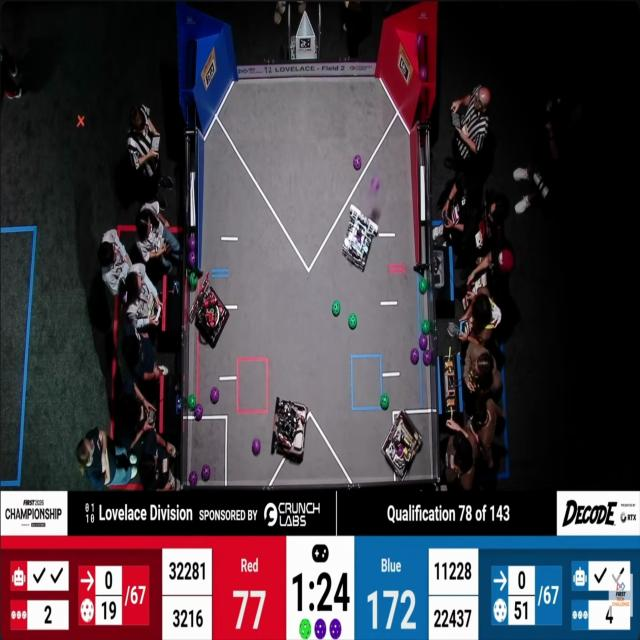artifact_green: (300, 619, 311, 639), (189, 272, 198, 289), (188, 394, 197, 411), (332, 300, 341, 317), (348, 313, 357, 330), (419, 278, 428, 294), (381, 394, 389, 410), (422, 320, 430, 335)
artifact_purple: (315, 619, 326, 639), (330, 619, 341, 639), (370, 177, 380, 193), (423, 349, 432, 366), (419, 334, 428, 351), (252, 439, 261, 455), (194, 404, 203, 420), (419, 65, 427, 82), (411, 348, 419, 365), (189, 471, 198, 486), (119, 288, 127, 304), (211, 387, 219, 403), (202, 465, 210, 481), (189, 251, 196, 268), (417, 34, 424, 49), (354, 155, 361, 170), (189, 235, 195, 251), (398, 445, 404, 456), (357, 235, 361, 243)
